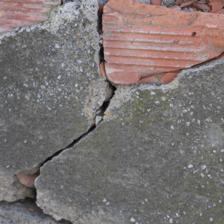Crack: (27, 159, 111, 224), (60, 131, 96, 219), (48, 150, 82, 182)
